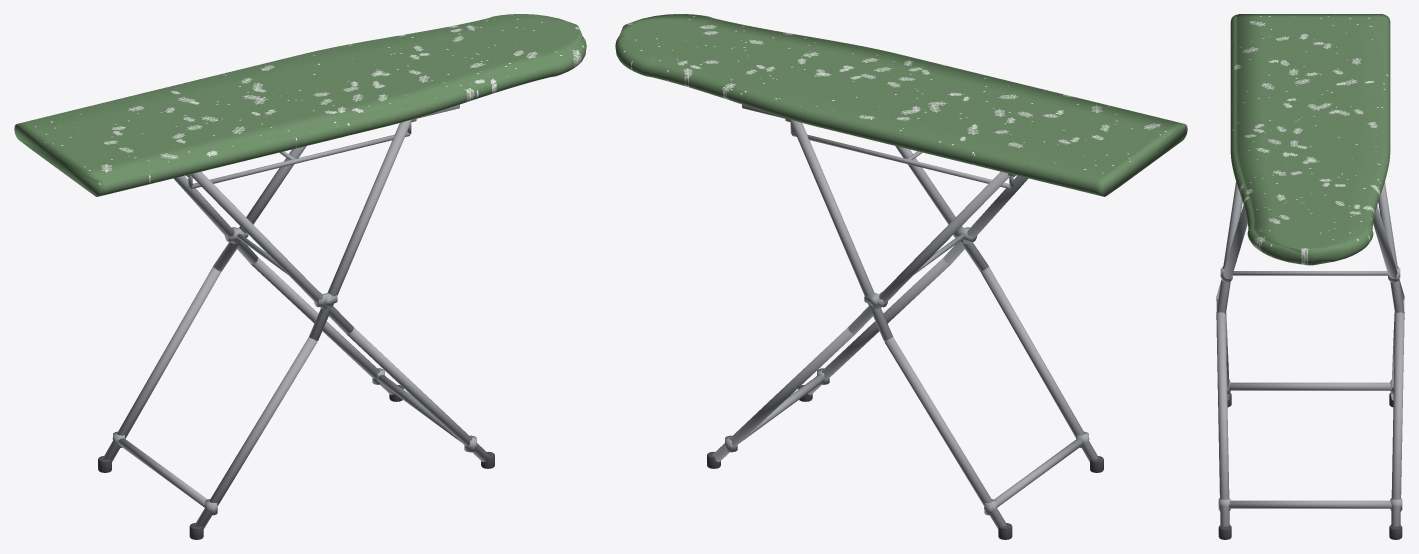
File: ironing_board.fbx
3 renders of one model, left to right at view 1: azimuth 30°, elevation 25°; view 2: azimuth 150°, elevation 25°; view 3: azimuth 270°, elevation 25°, orthographic. The views are drawn at different scales.
Visible parts, largest first — view 1: cover, legs, feet; view 2: cover, legs, feet; view 3: cover, legs, feet.
Boxes of the visible parts, x1,y1,x2,y2 form: cover: (14, 14, 586, 196); legs: (103, 118, 489, 529); feet: (98, 385, 494, 539); cover: (615, 14, 1187, 196); legs: (712, 118, 1098, 529); feet: (707, 385, 1103, 539); cover: (1230, 14, 1390, 265); legs: (1216, 182, 1404, 526); feet: (1218, 393, 1402, 539).
Bounding box in the file's own units: 1.28 × 0.88 × 0.4308.
3 materials, 1 textured.
